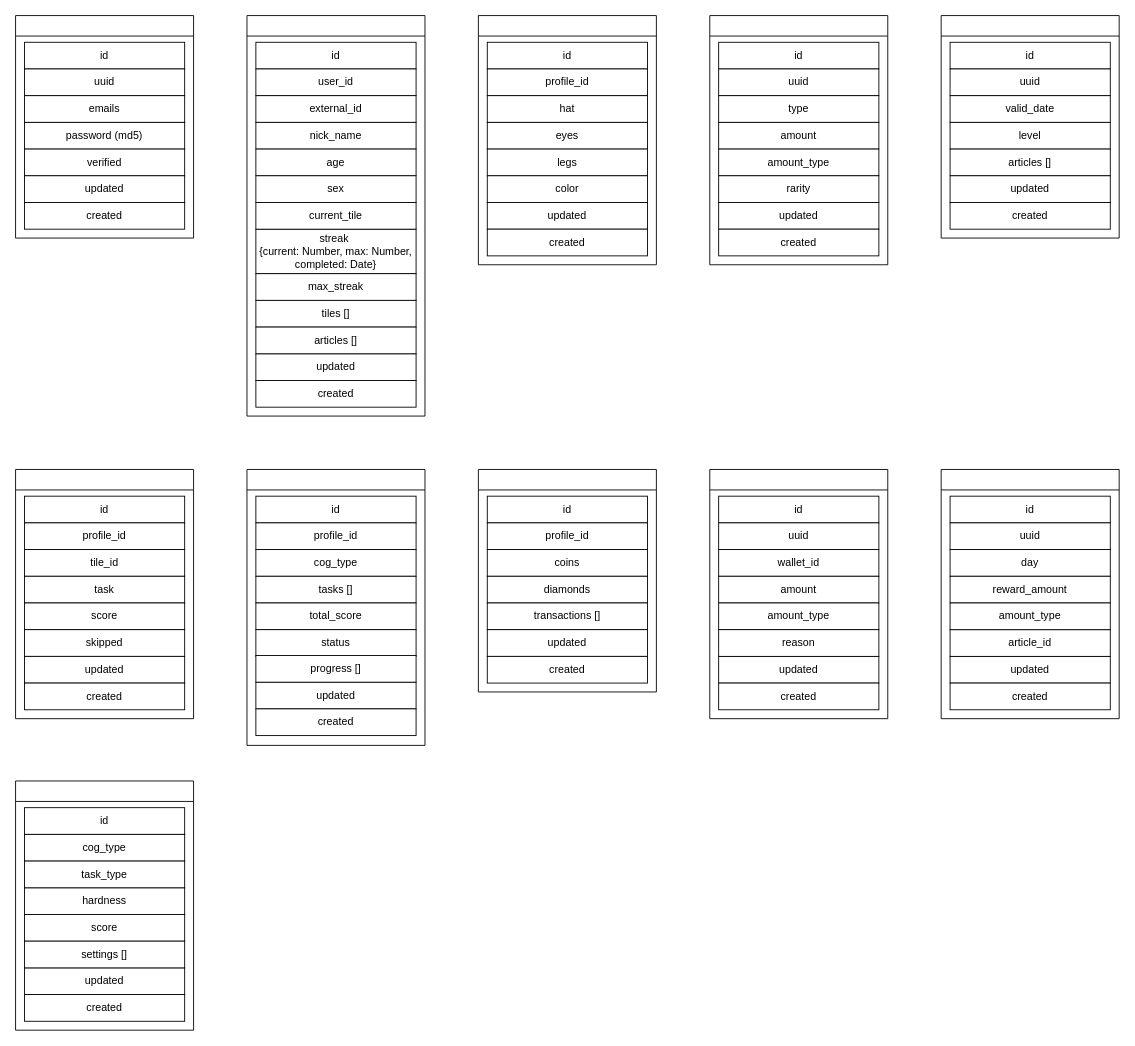
The diagram is 1135 pixels wide and 1046 high, and some of its shapes have lost their labels. The shapes that lost their labels are listed below. From the top down, each one's box as (x1, y1, x2, y2) in pixels, then its label:
(15, 15, 194, 238): user
(477, 15, 656, 265): pet
(709, 15, 888, 265): articles
(940, 15, 1119, 238): shop
(246, 15, 425, 416): profile
(15, 469, 194, 719): progress
(477, 469, 656, 692): wallet
(709, 469, 888, 719): transactions
(940, 469, 1119, 719): calendar_days
(246, 469, 425, 745): tiles
(15, 780, 194, 1030): tasks
